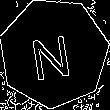N_N: (30, 25, 78, 81)
